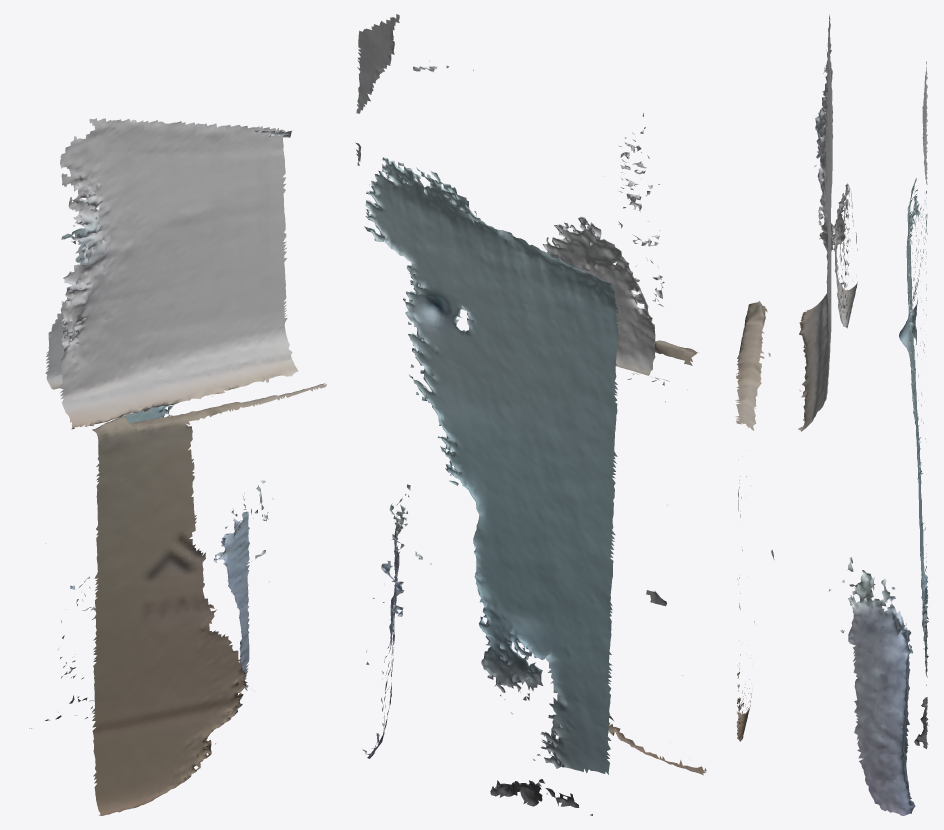
The model's file is apartment-full-25-7fb575817cce.glb.
3 views of the same model, side by side, from view 1: azimuth 30°, elevation 25°; view 2: azimuth 150°, elevation 25°; view 3: azimuth 270°, elevation 25° (orthographic). The views are drawn at different scales.
Bounding box in the file's own units: 0.604 × 1.75 × 0.411.
